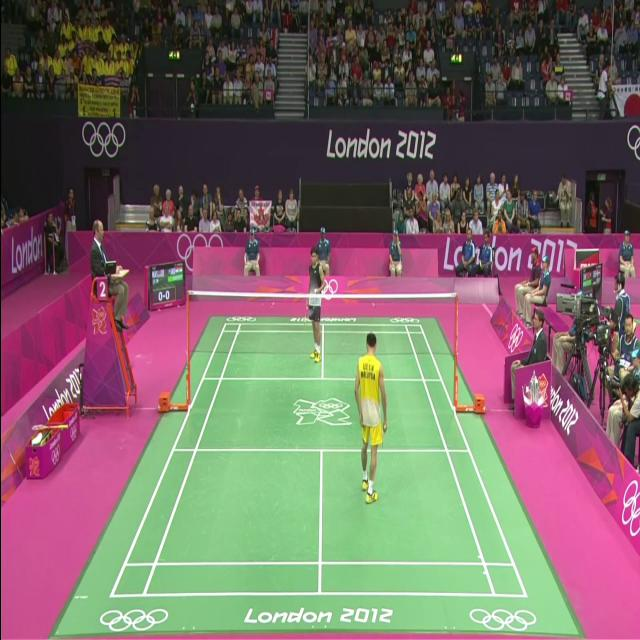Net: (186, 281, 456, 367)
Player1: (341, 333, 394, 509)
Player2: (298, 236, 332, 362)
